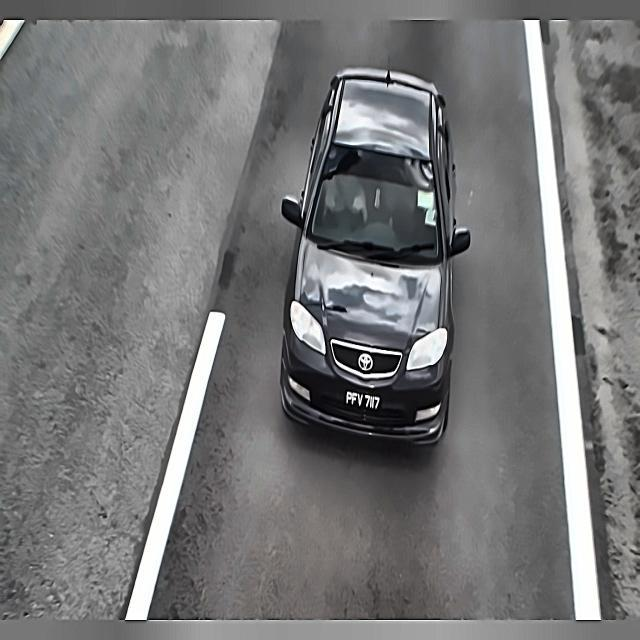car: (345, 389, 382, 417)
